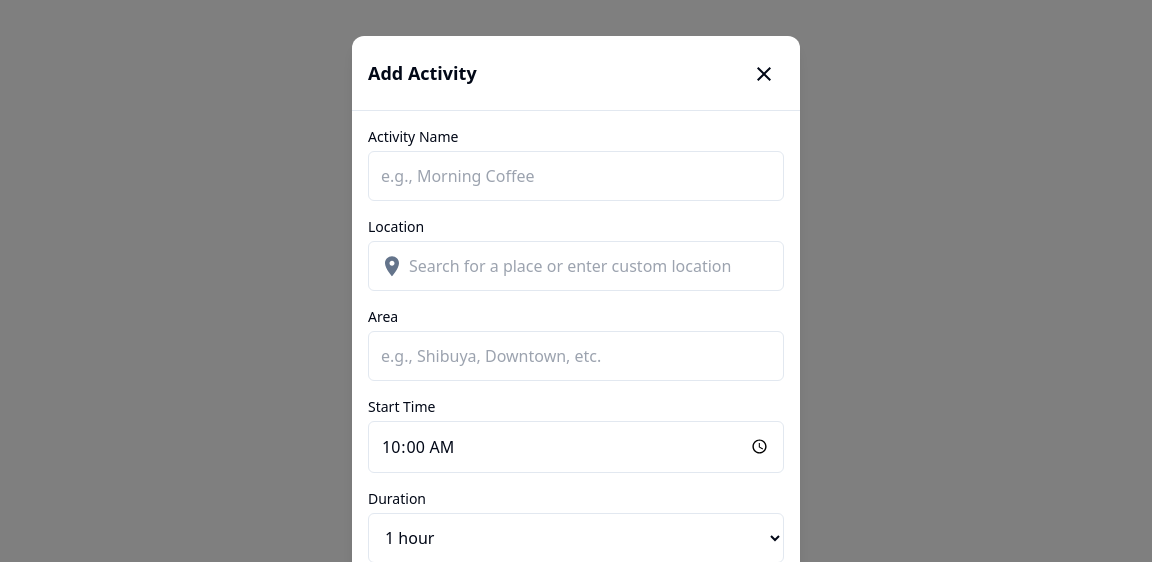
Test case: ActivityModal Component › should allow custom location entry
In the field labelled "Location": {"x": 576, "y": 266} [368,241,784,291], type "Custom Location"
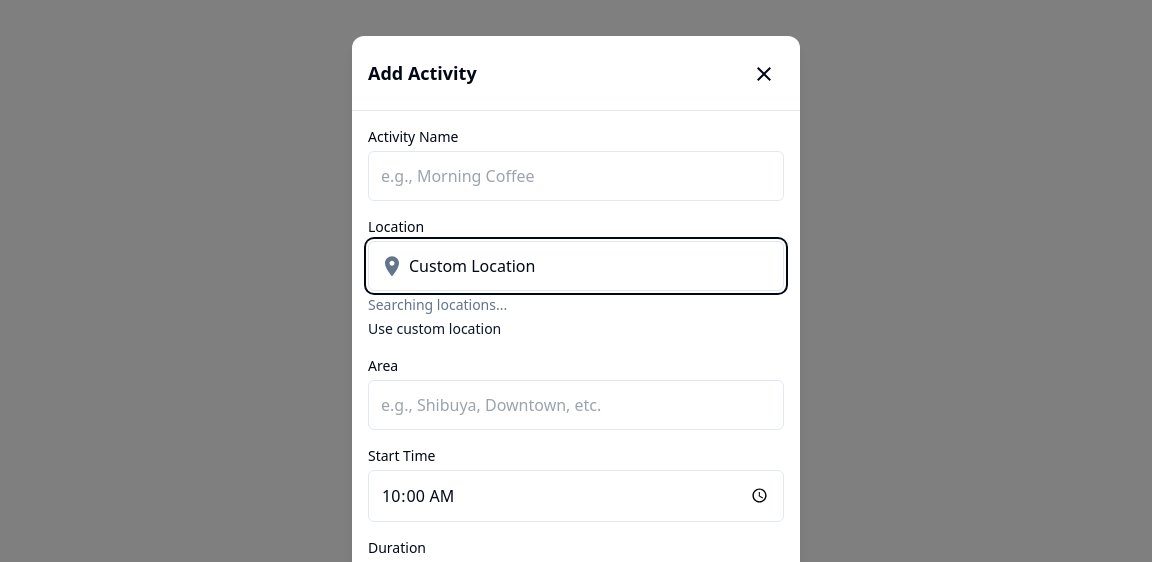
Click the button "Use custom location": {"x": 435, "y": 329} [368,319,501,339]
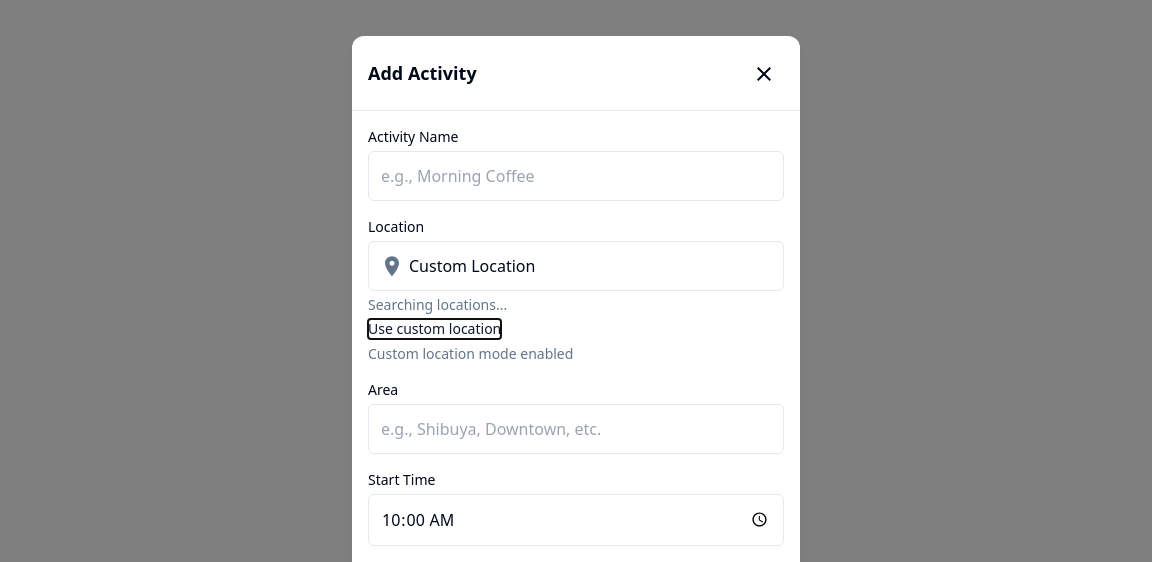
Expected: the text "Custom location mode enabled" is shown, [368,344,573,363]
